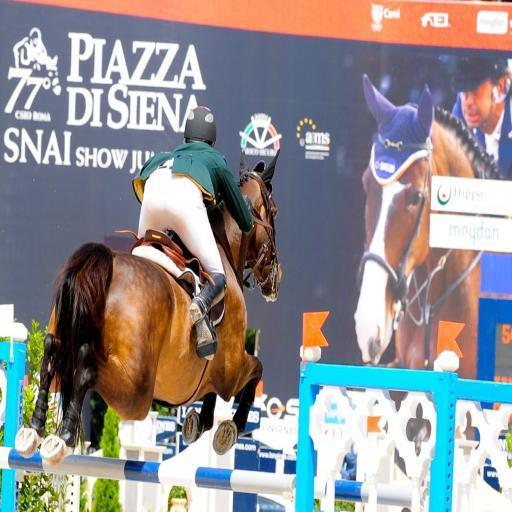horse: (12, 148, 285, 469), (352, 75, 506, 452)
